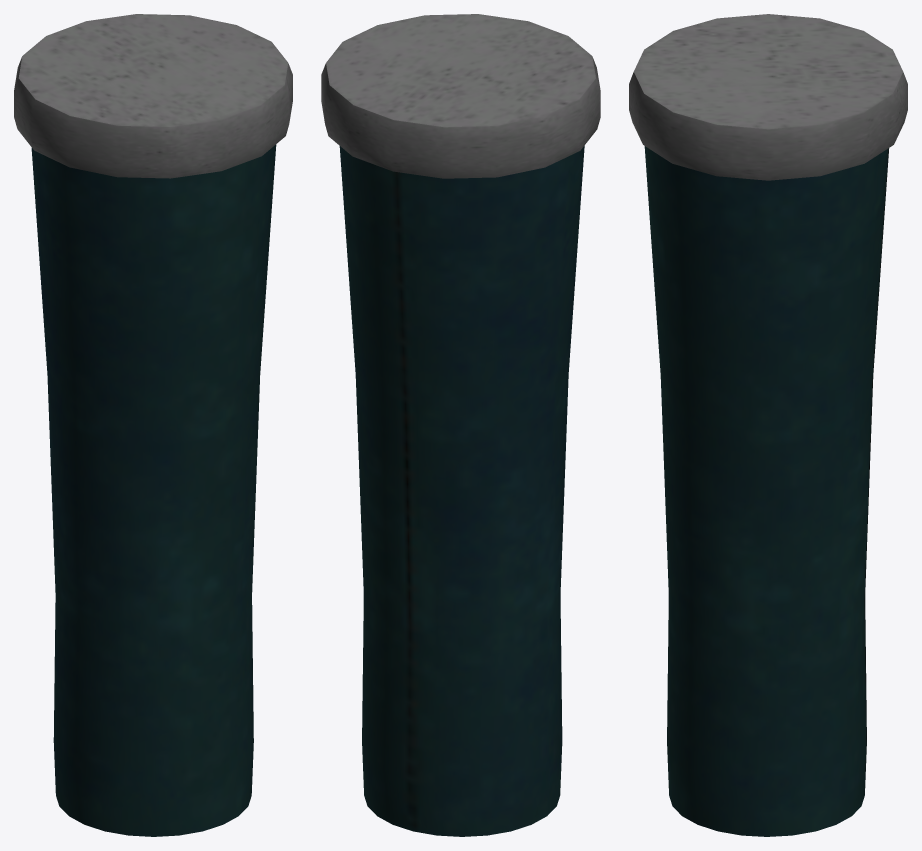
File: wm_pelagir_sword_a02_handle.fbx
3 renders of one model, left to right at view 1: azimuth 30°, elevation 25°; view 2: azimuth 150°, elevation 25°; view 3: azimuth 270°, elevation 25°, orthographic.
Visible parts, largest first — view 1: wm_pelagir_sword_a02_handle; view 2: wm_pelagir_sword_a02_handle; view 3: wm_pelagir_sword_a02_handle.
Part boxes in pixels (x1,y1,x2,y2): wm_pelagir_sword_a02_handle: [14, 14, 292, 836]; wm_pelagir_sword_a02_handle: [321, 14, 600, 836]; wm_pelagir_sword_a02_handle: [629, 14, 907, 836].
Bounding box in the file's own units: 0.0449 × 0.0443 × 0.1271.
Materials: 1 (1 with a texture image).
